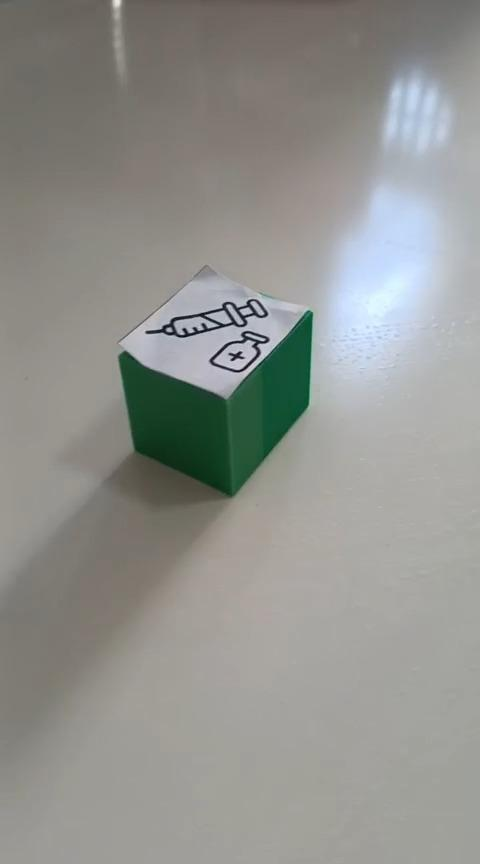antiseptic cream: (115, 262, 314, 497)
